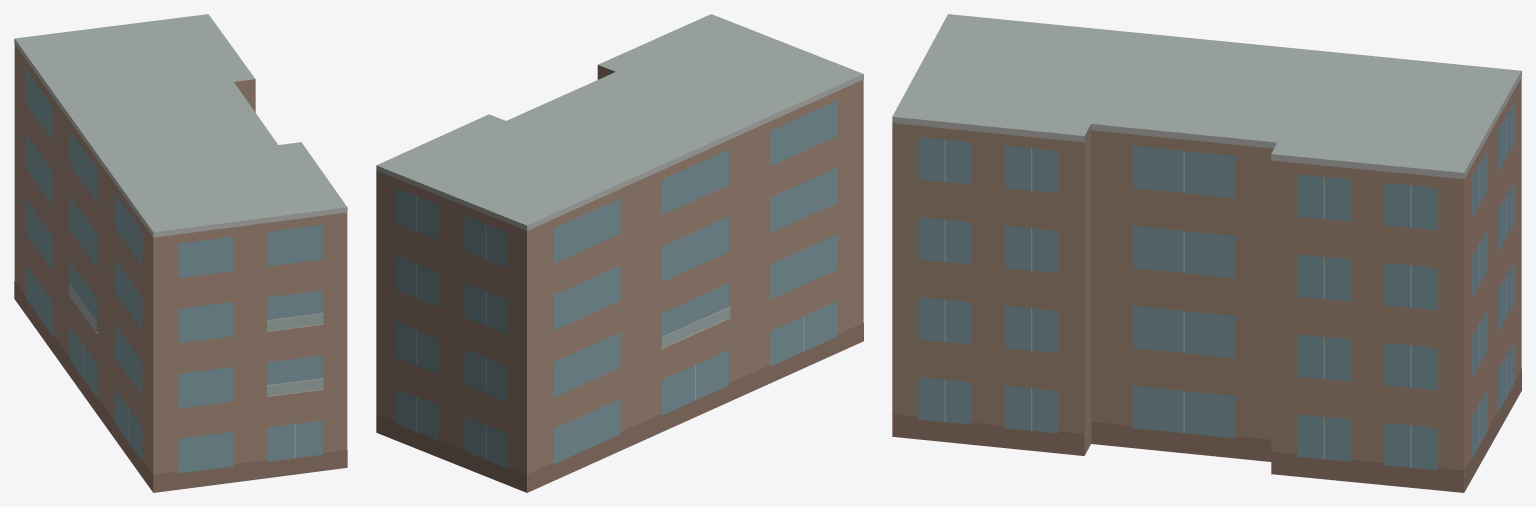
Rendered from survey-upis-32527767.glb.
3 views of the same model, side by side, from view 1: azimuth 30°, elevation 25°; view 2: azimuth 150°, elevation 25°; view 3: azimuth 270°, elevation 25° (orthographic). The views are drawn at different scales.
Visible parts, largest first — view 1: survey-upis-32527767.tmp; view 2: survey-upis-32527767.tmp; view 3: survey-upis-32527767.tmp.
Part boxes in pixels (x1,y1,x2,y2): survey-upis-32527767.tmp: [14, 14, 347, 492]; survey-upis-32527767.tmp: [376, 14, 863, 492]; survey-upis-32527767.tmp: [892, 14, 1521, 492].
Bounding box in the file's own units: 13.04 × 12.23 × 21.82.
